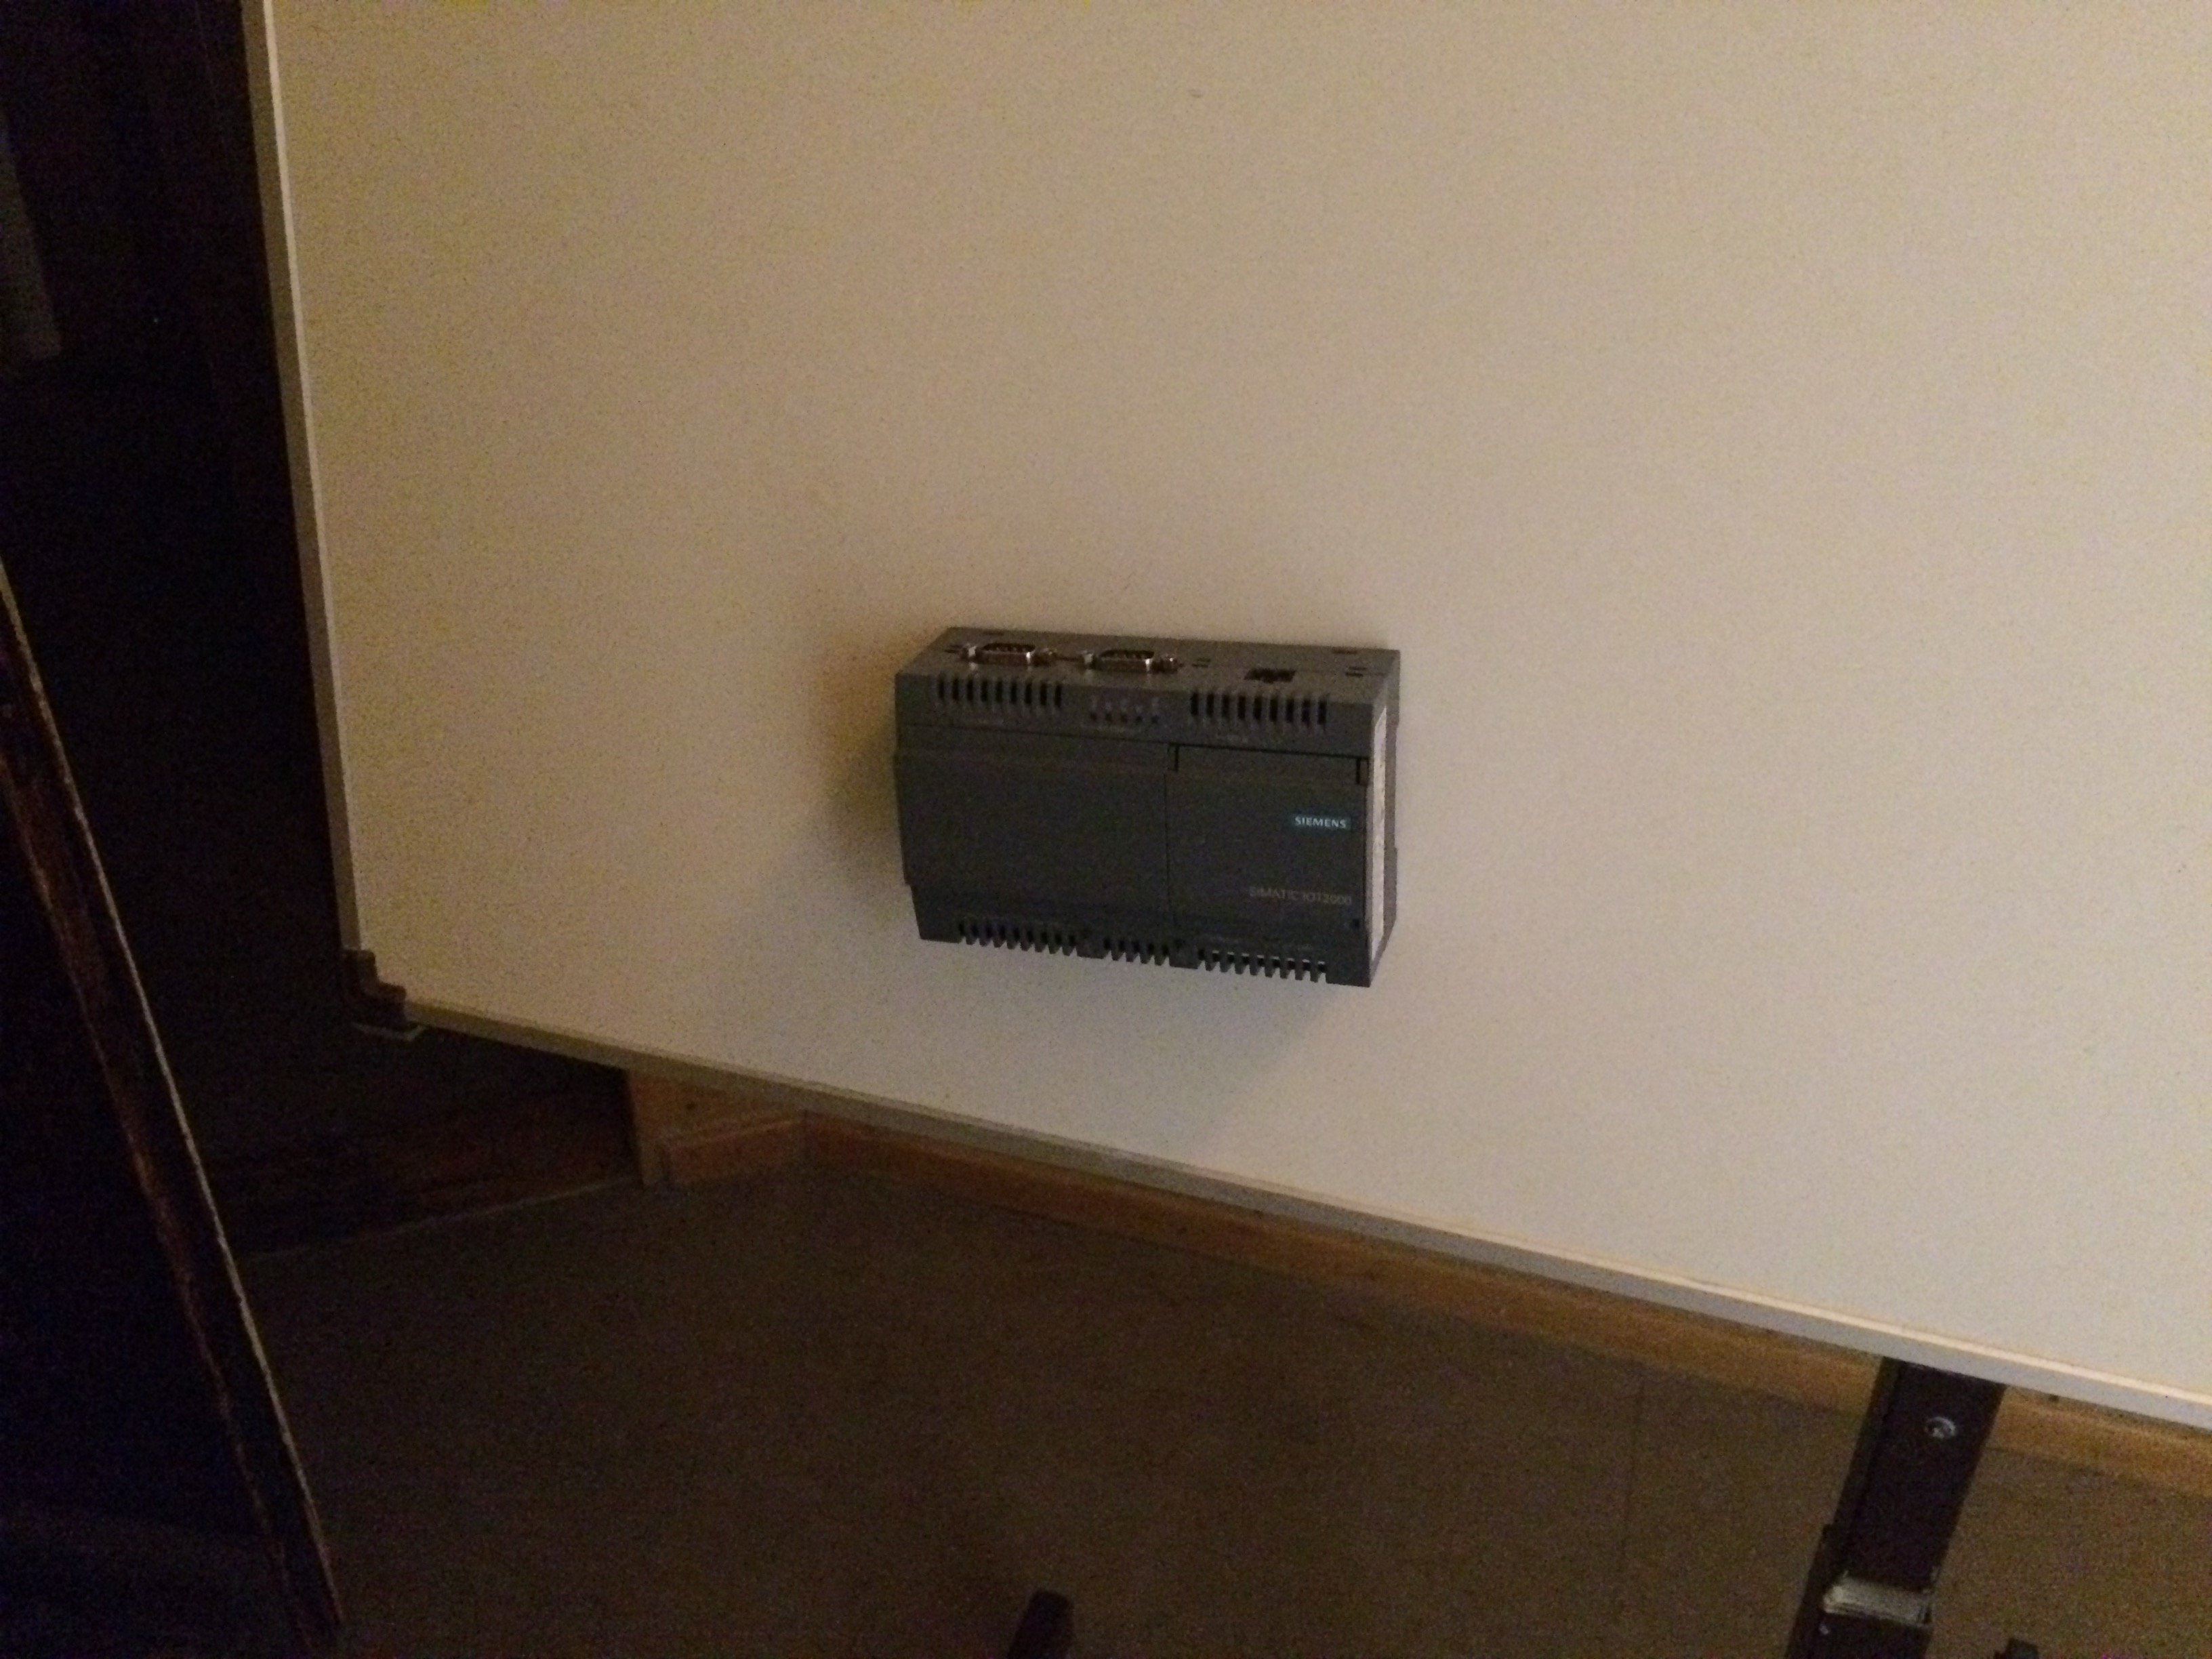iot2000: (890, 622, 1406, 993)
